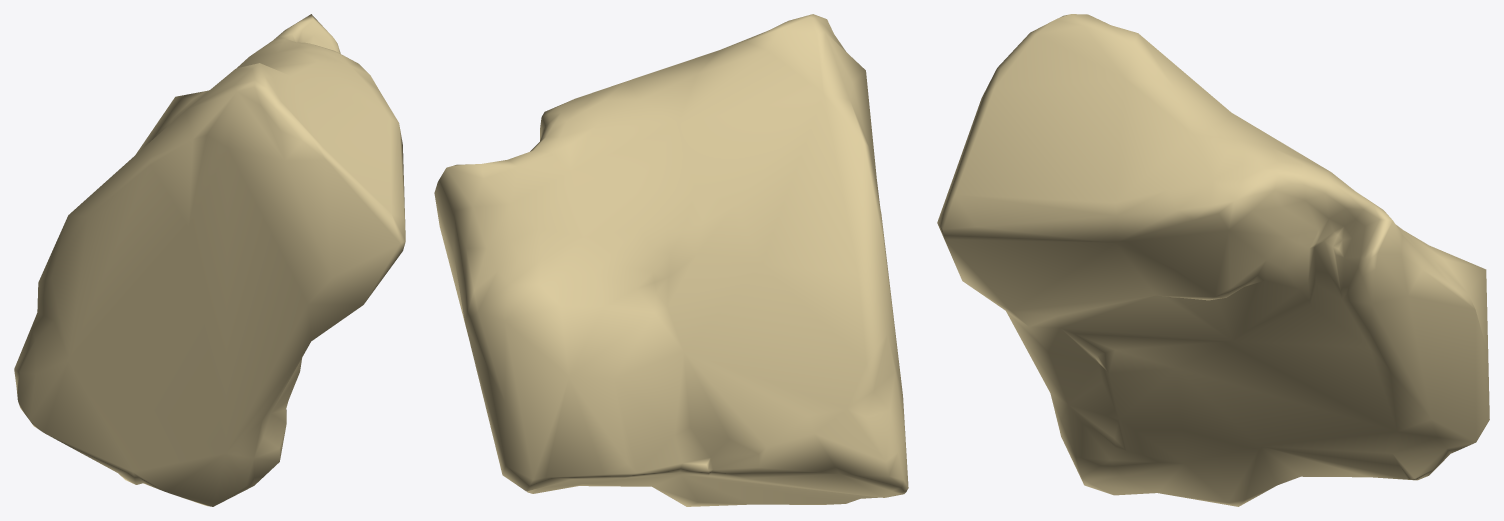
3 renders of one model, left to right at view 1: azimuth 30°, elevation 25°; view 2: azimuth 150°, elevation 25°; view 3: azimuth 270°, elevation 25°, orthographic. The views are drawn at different scales.
Visible parts, largest first — view 1: 右侧外侧楔骨; view 2: 右侧外侧楔骨; view 3: 右侧外侧楔骨.
Part boxes in pixels (x1=…): 右侧外侧楔骨: x1=14, y1=14, x2=405, y2=506; 右侧外侧楔骨: x1=434, y1=14, x2=908, y2=506; 右侧外侧楔骨: x1=937, y1=14, x2=1489, y2=506.
Size of the model in its own units: 0.0357 by 0.039 by 0.0396.
